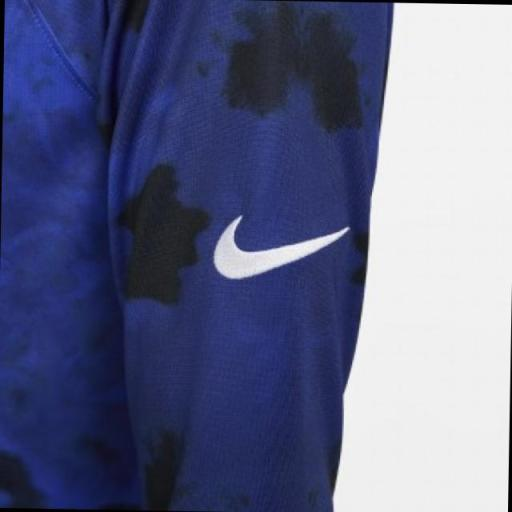Nike: (201, 206, 356, 288)
